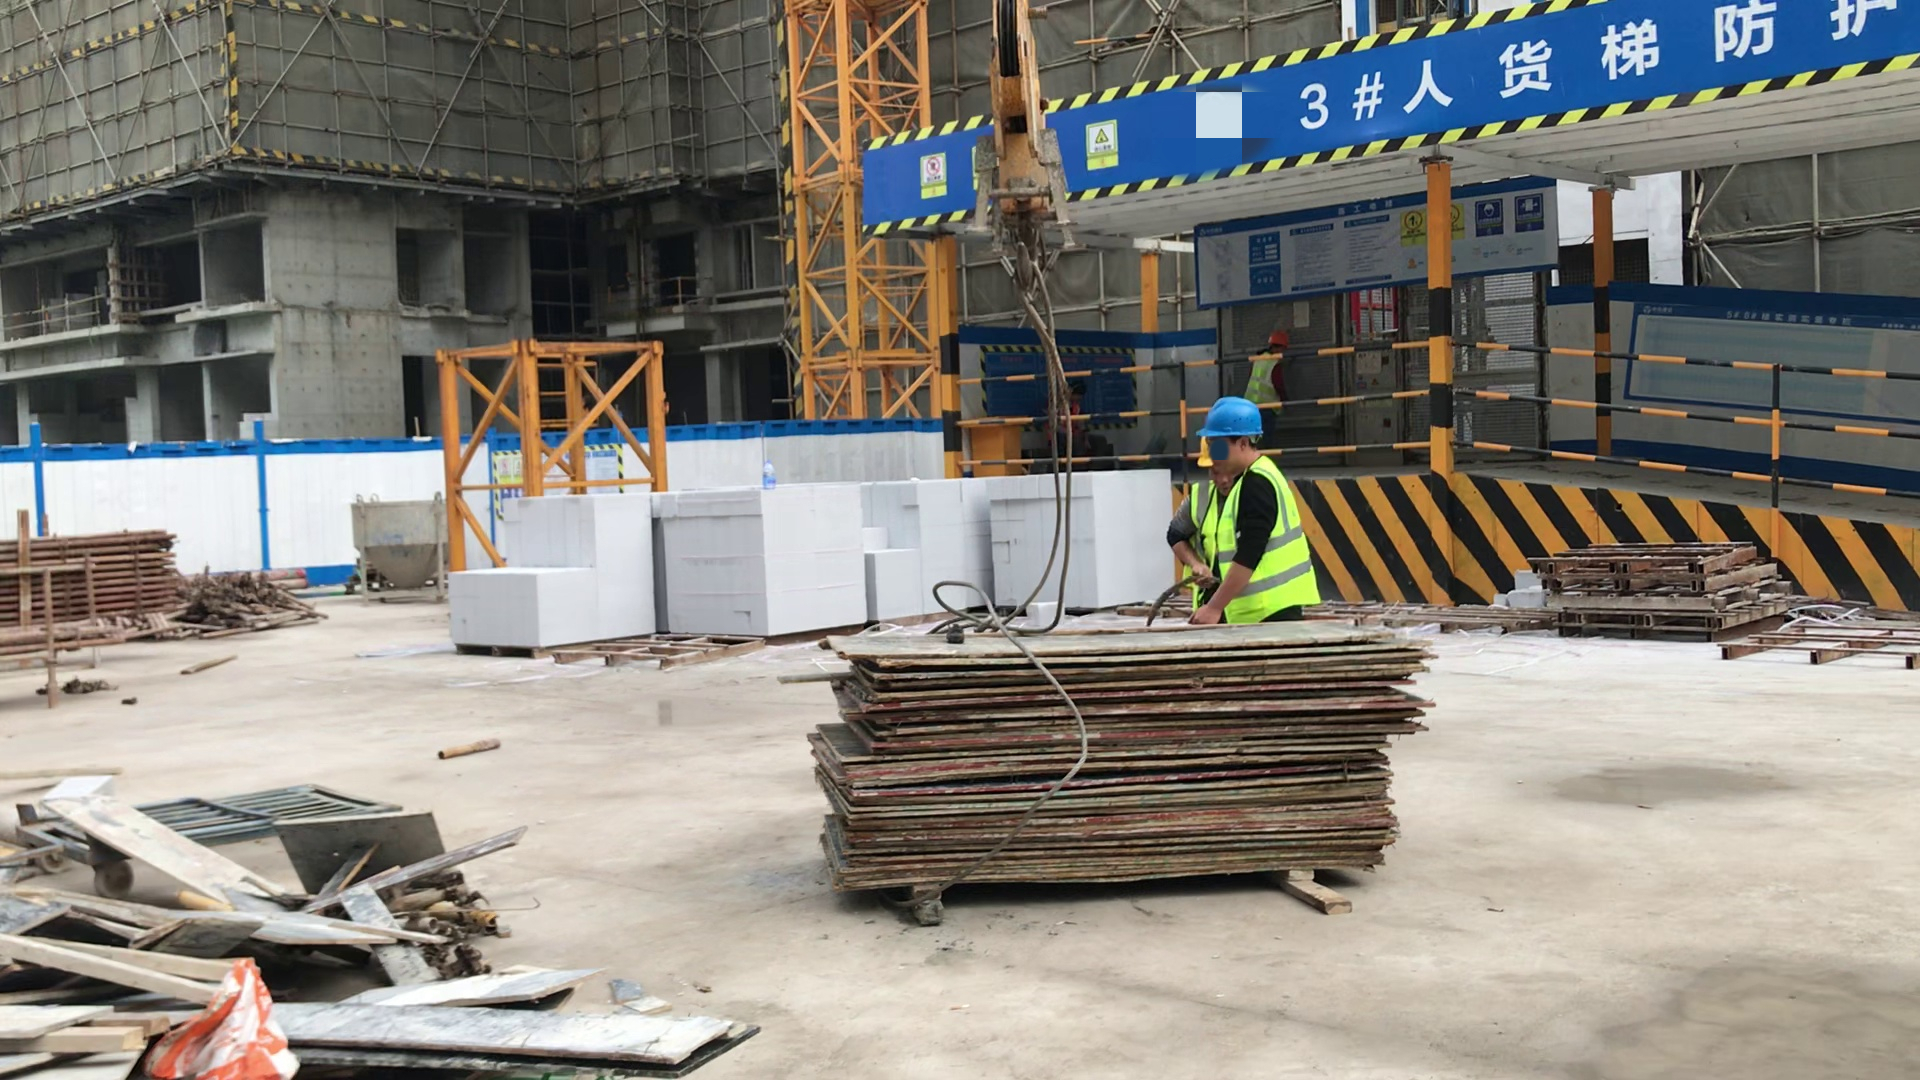board: (806, 616, 1433, 909)
brick: (446, 452, 1176, 658)
ebox: (964, 410, 1027, 476)
handcart: (7, 775, 407, 882)
helmet: (1196, 396, 1263, 446), (1265, 328, 1292, 350)
hook: (976, 1, 1070, 377)
hopper: (341, 489, 457, 602)
person: (1178, 398, 1321, 619), (1241, 329, 1291, 450), (1048, 378, 1097, 456)
scaffold: (1, 519, 186, 637)
slogan: (1290, 1, 1905, 143), (896, 147, 960, 208), (1082, 116, 1122, 181)
vest: (1222, 473, 1323, 617), (1187, 479, 1226, 615), (1245, 353, 1280, 407)
